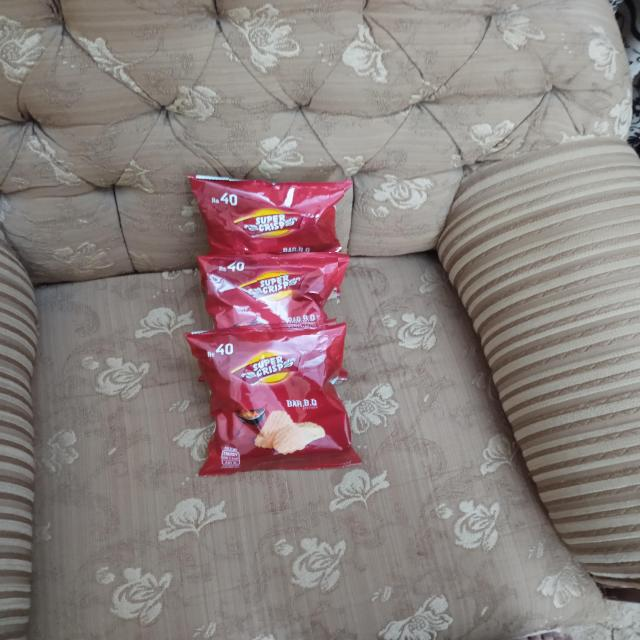Plastic: (191, 335, 351, 468), (195, 176, 344, 252), (201, 257, 338, 331)
